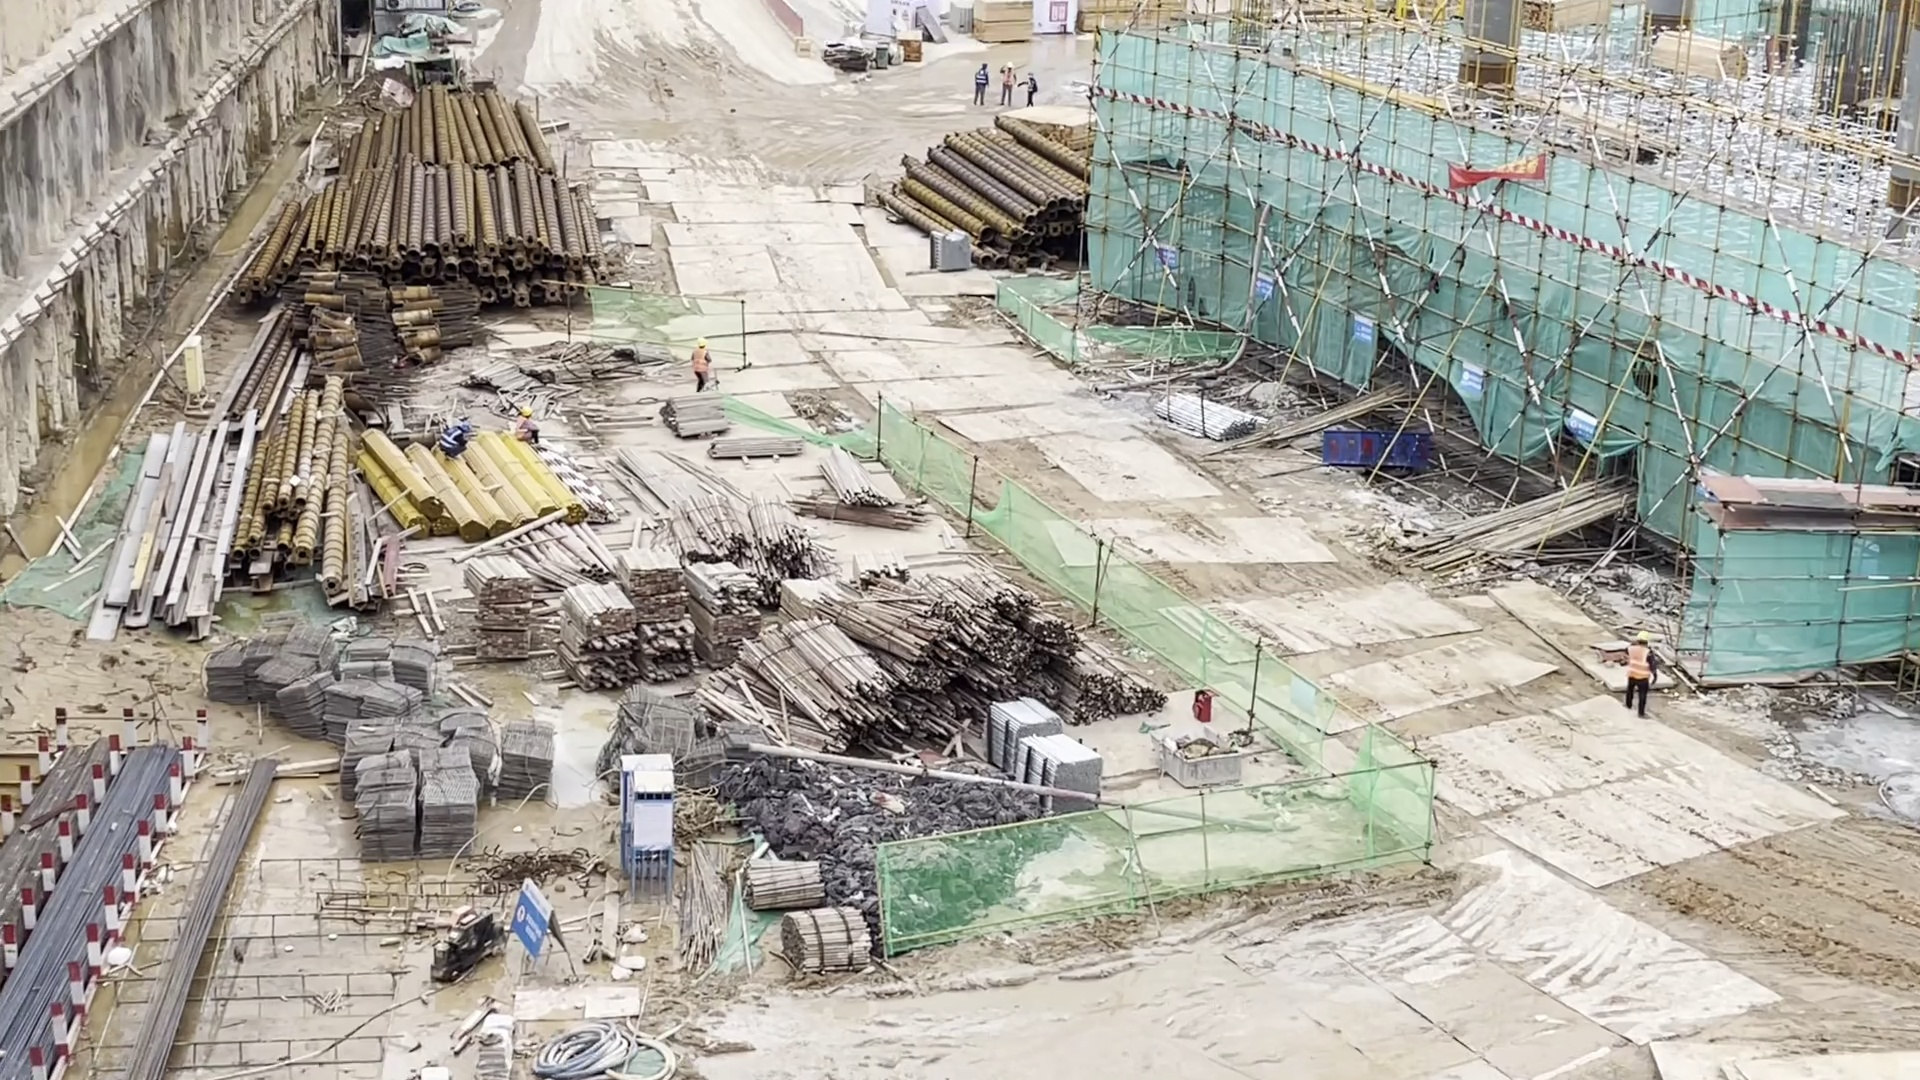helmet: (1634, 628, 1649, 644), (522, 405, 534, 417), (461, 420, 472, 433), (695, 338, 708, 348), (1003, 60, 1015, 68), (1026, 69, 1036, 76)
person: (1623, 616, 1663, 721), (688, 335, 724, 399), (431, 406, 474, 460), (512, 408, 545, 456), (969, 57, 994, 109), (996, 60, 1021, 105), (1022, 69, 1040, 108)
vest: (1627, 647, 1653, 687), (437, 427, 461, 453), (516, 420, 536, 440), (694, 349, 708, 372), (1002, 69, 1017, 88), (977, 70, 989, 88), (1026, 78, 1037, 96)
